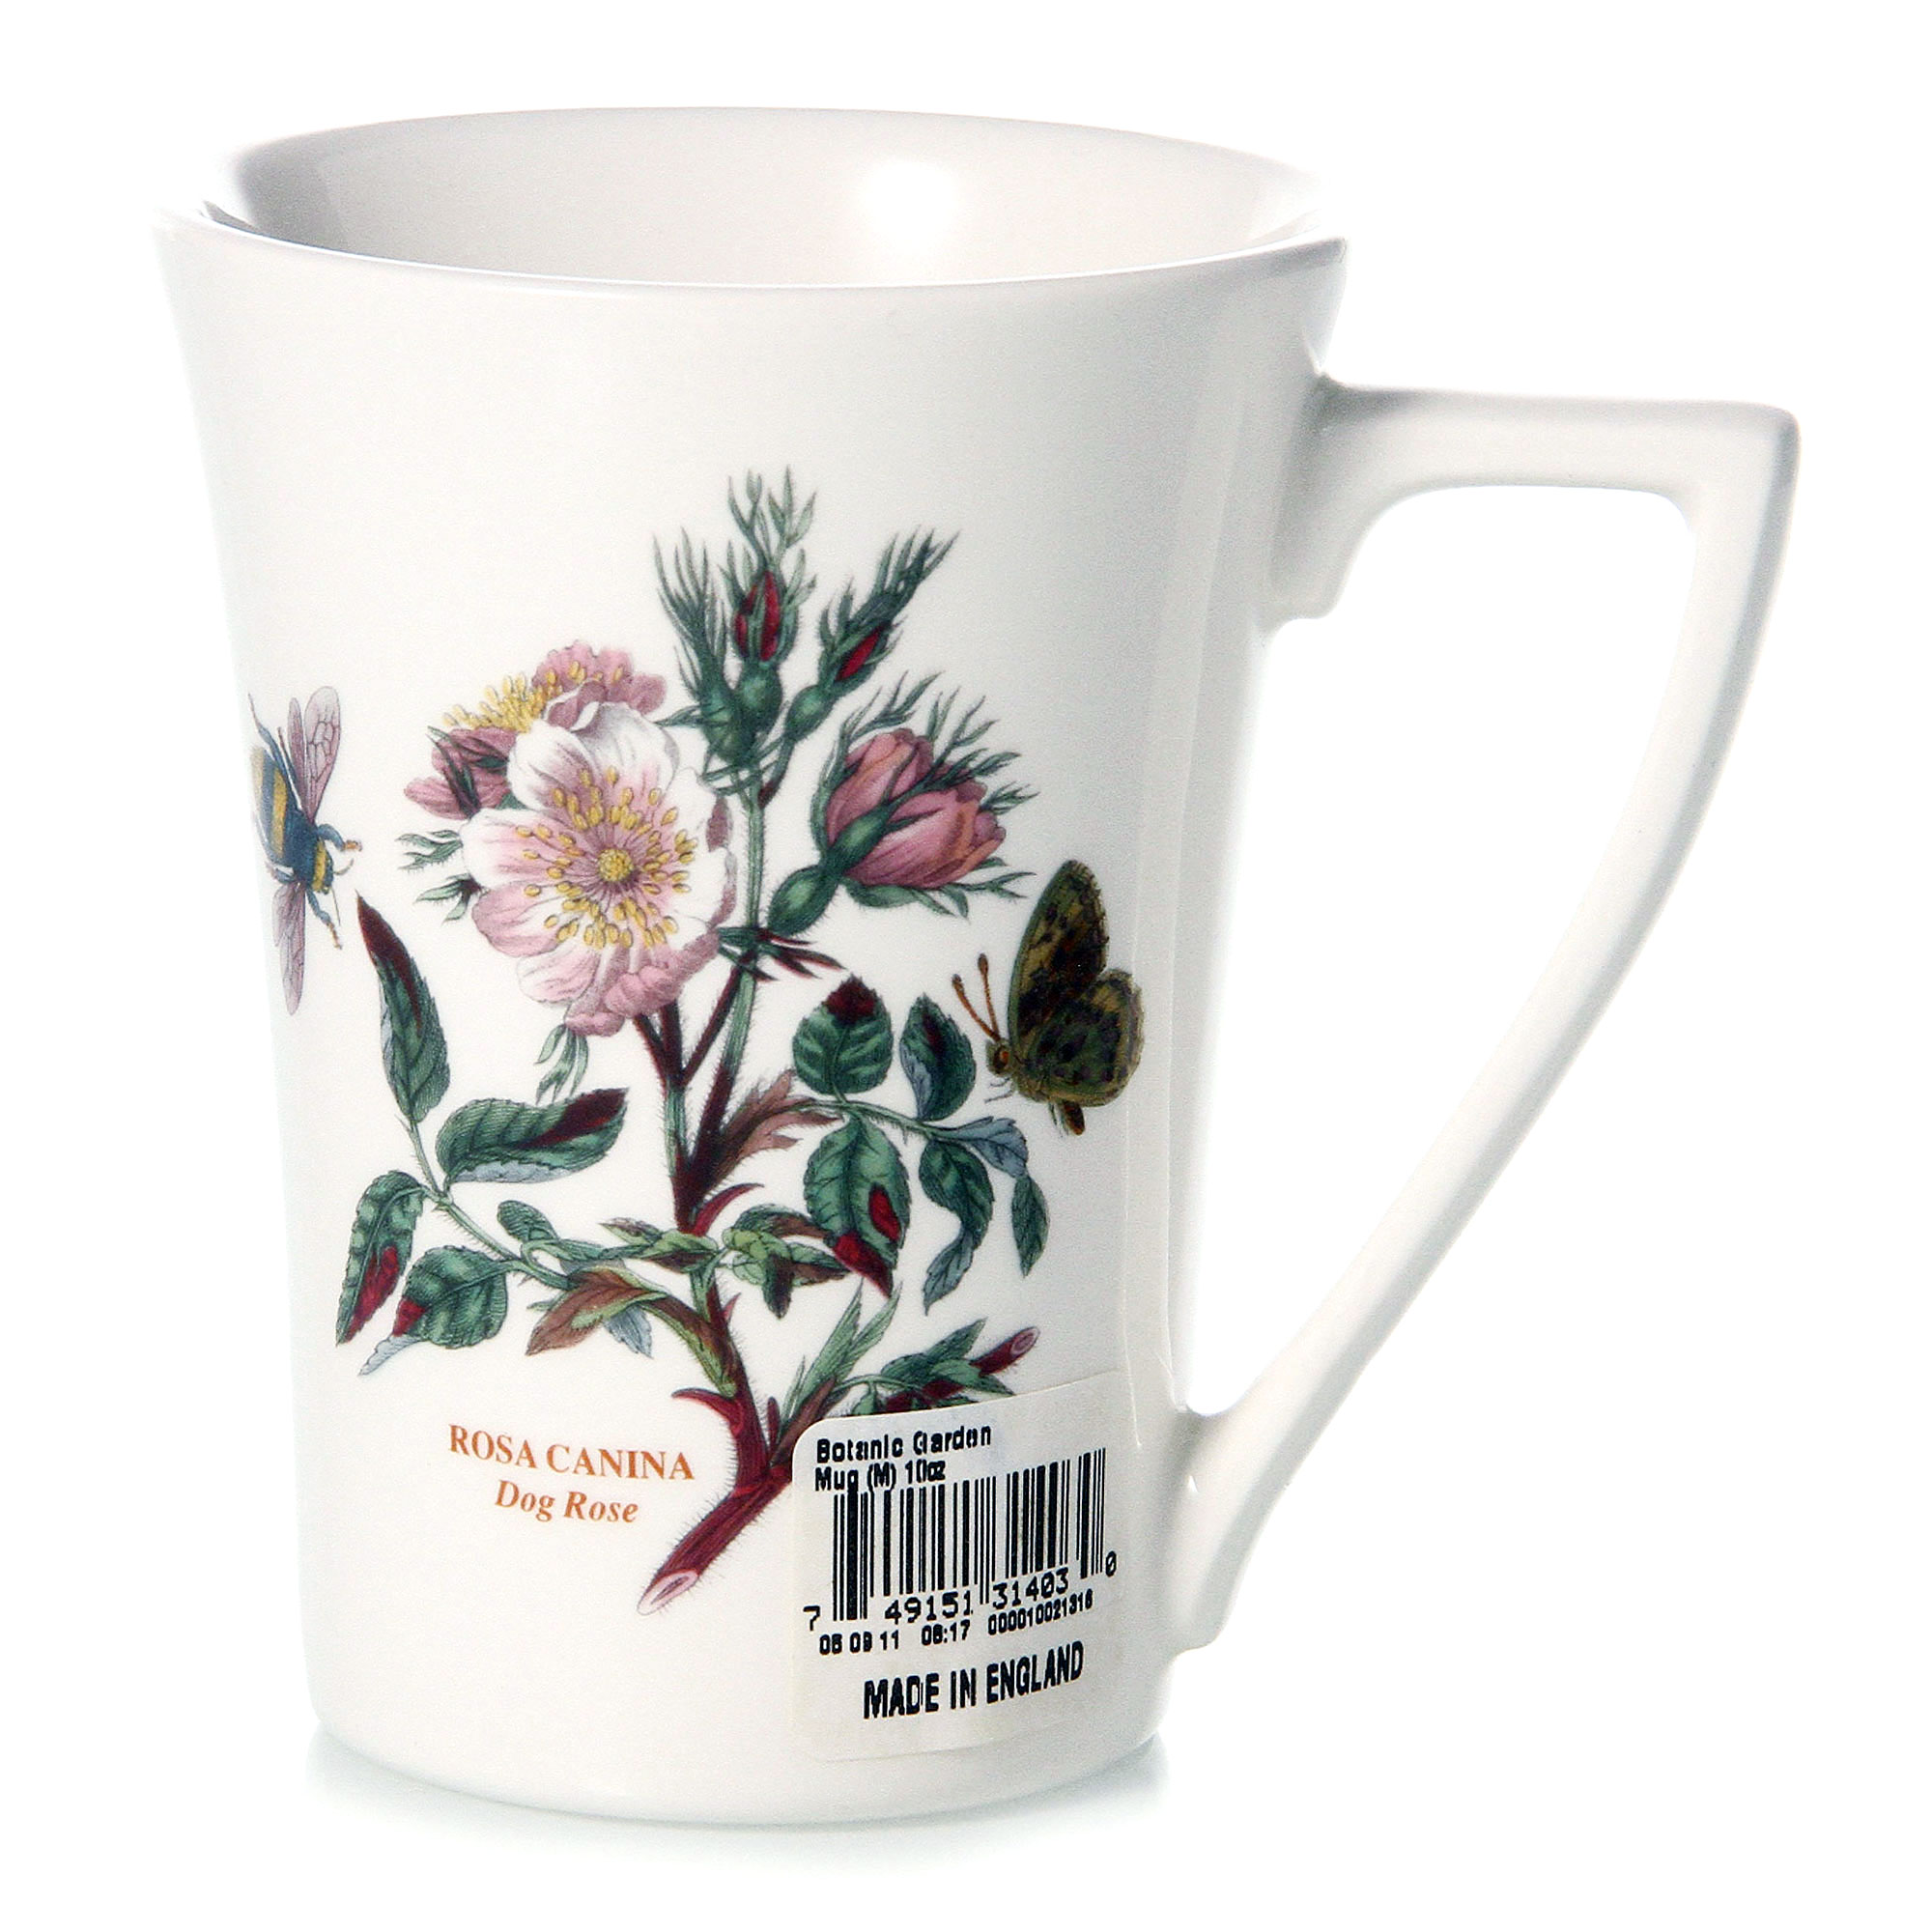cup: (142, 101, 1801, 1840)
